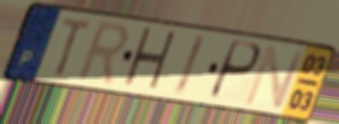H: (119, 25, 179, 96)
I: (171, 32, 209, 98)
N: (241, 43, 309, 110)
P: (205, 38, 265, 103)
R: (72, 19, 134, 89)
T: (53, 16, 95, 80)
